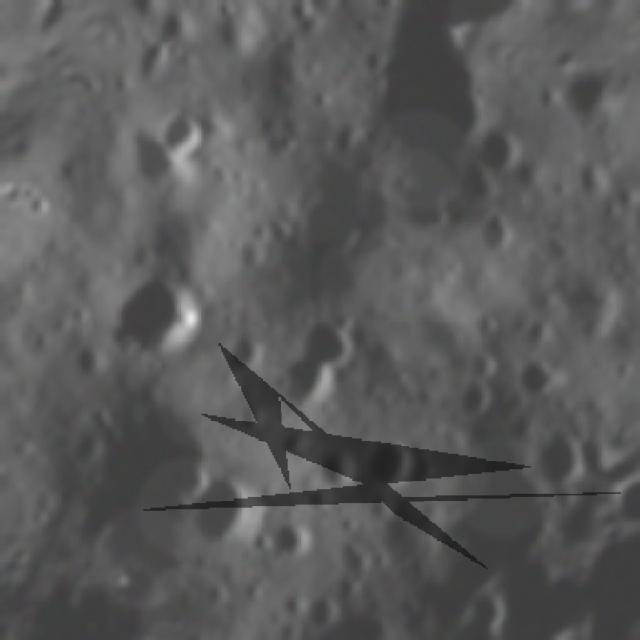crater: (326, 2, 528, 210), (91, 255, 220, 387), (167, 453, 276, 570), (266, 174, 377, 281), (541, 267, 630, 359), (283, 294, 374, 383), (268, 352, 354, 432), (111, 123, 191, 200), (519, 428, 592, 501), (142, 98, 213, 170), (464, 117, 533, 191), (544, 78, 622, 140), (256, 509, 326, 578), (352, 430, 422, 496), (464, 204, 528, 273), (497, 350, 560, 415), (438, 372, 496, 426), (451, 340, 507, 391), (460, 303, 508, 352), (16, 179, 62, 230), (298, 592, 345, 640), (321, 565, 368, 609), (603, 349, 640, 391), (348, 0, 404, 20), (631, 119, 640, 163)
